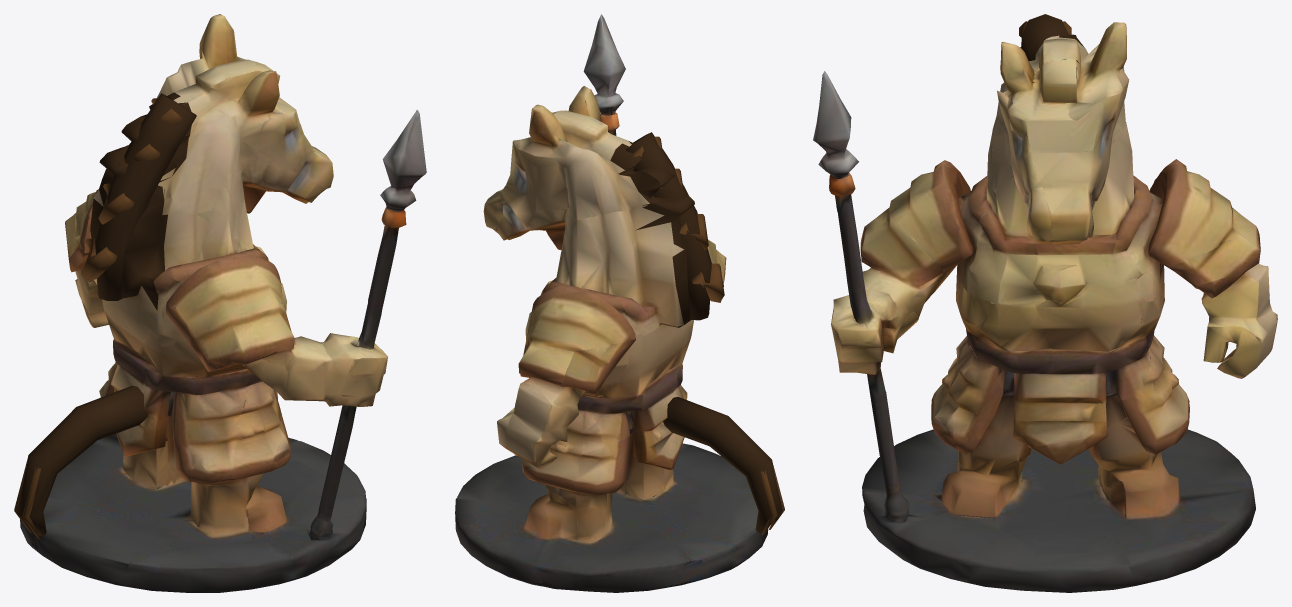
File: horse.glb
The picture shows the model from 3 angles, left to right: view 1: azimuth 30°, elevation 25°; view 2: azimuth 150°, elevation 25°; view 3: azimuth 270°, elevation 25°; orthographic projection. The views are drawn at different scales.
Visible parts, largest first — view 1: horse-readable-standard; view 2: horse-readable-standard; view 3: horse-readable-standard.
Part boxes in pixels (x1,y1,x2,y2): horse-readable-standard: [14, 14, 426, 592]; horse-readable-standard: [455, 14, 784, 592]; horse-readable-standard: [813, 14, 1277, 592].
Bounding box in the file's own units: 0.755 × 1.02 × 0.8317.
1 material, 1 textured.
